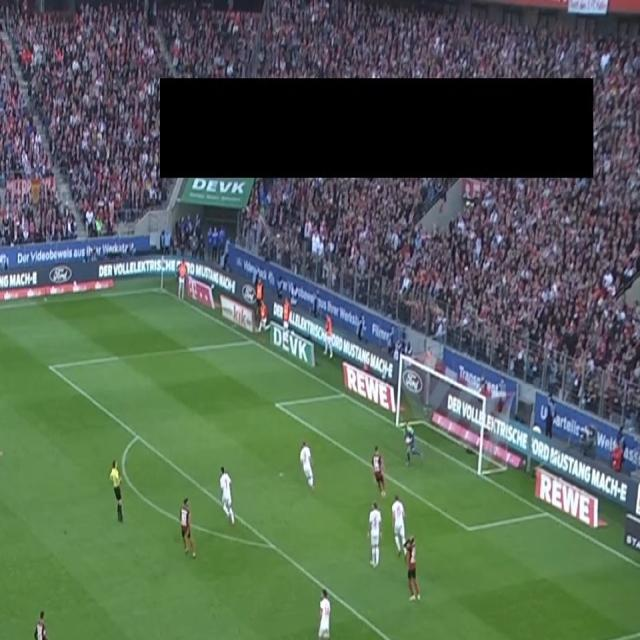ball: (406, 435, 412, 445)
